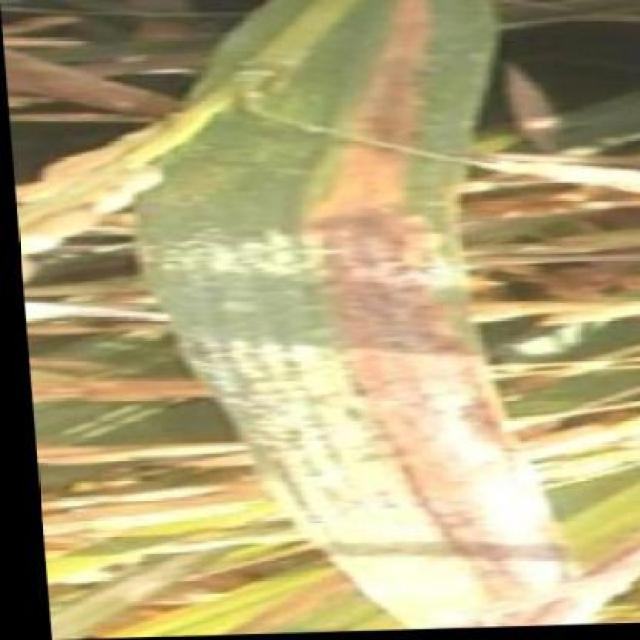Brown_Spot: (190, 0, 484, 562)
